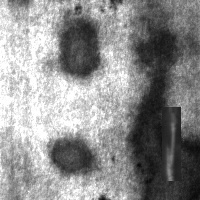patches: (132, 80, 200, 199), (58, 9, 100, 77), (132, 24, 181, 76), (48, 136, 96, 174)
scratches: (162, 107, 181, 181)
